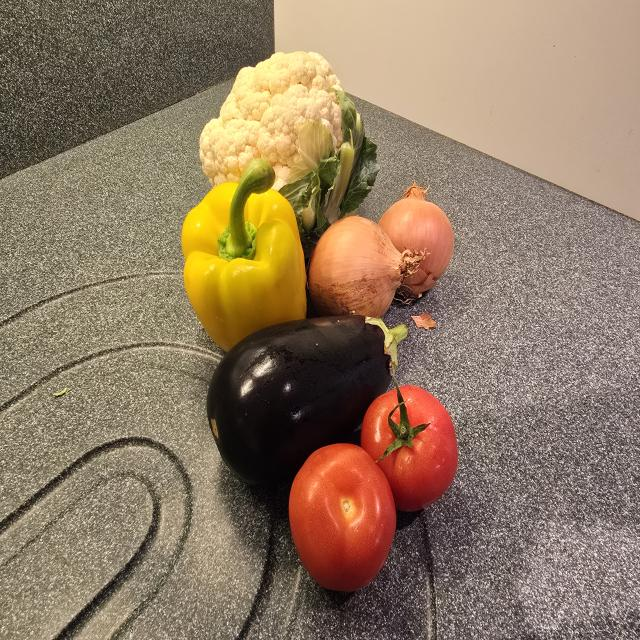Bell Pepper: (182, 157, 306, 351)
Cauliflower: (200, 52, 379, 232)
Eggplant: (207, 315, 407, 486)
Onion: (308, 216, 413, 317), (379, 184, 454, 304)
Tomato: (289, 443, 396, 591), (361, 385, 457, 511)
